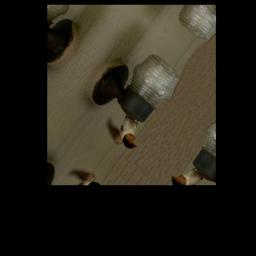Swallow: (99, 104, 150, 157)
